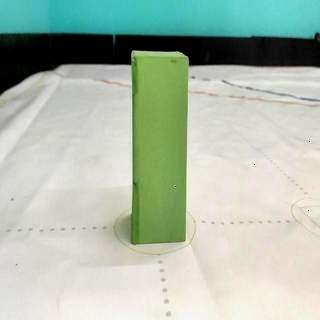greenbox: (130, 49, 190, 244)
